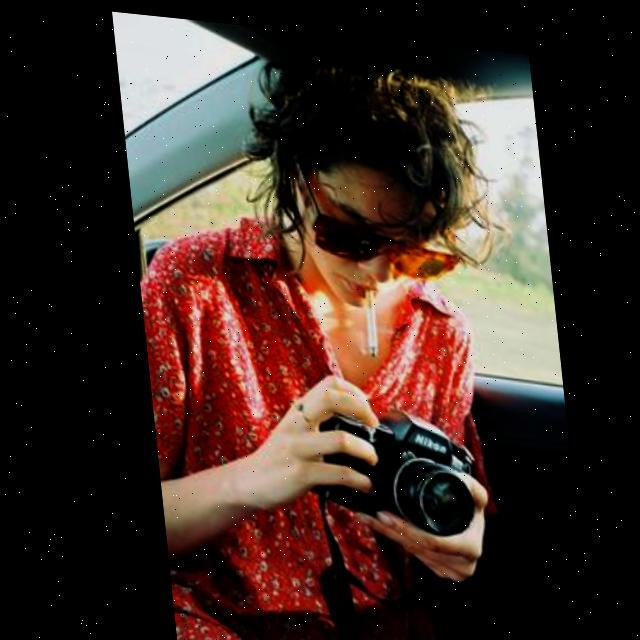cigarette: (354, 277, 372, 350)
